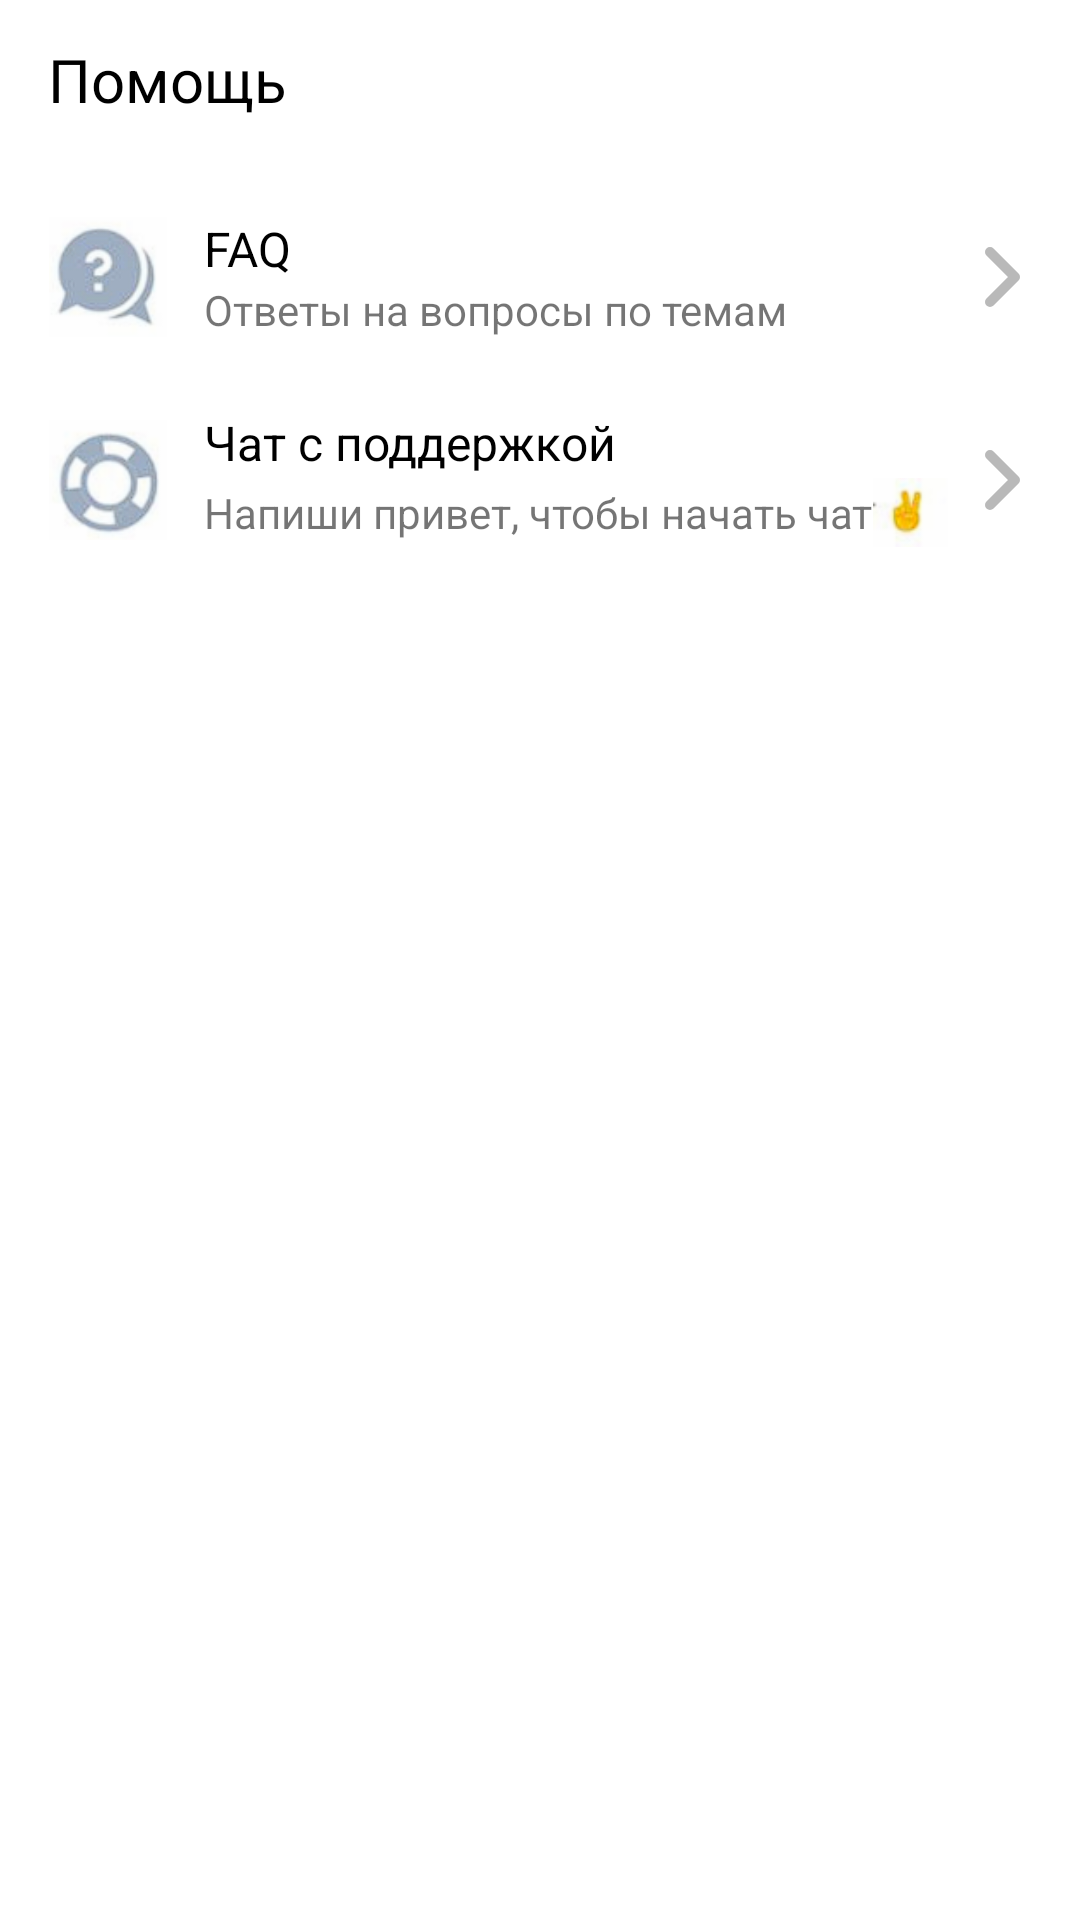

Screen size 1080×1920. Icon name, then its box in pixels as [x1, y1, x2, y2]:
finger: [873, 488, 923, 535]
right: [985, 247, 1020, 307], [985, 450, 1020, 510]
